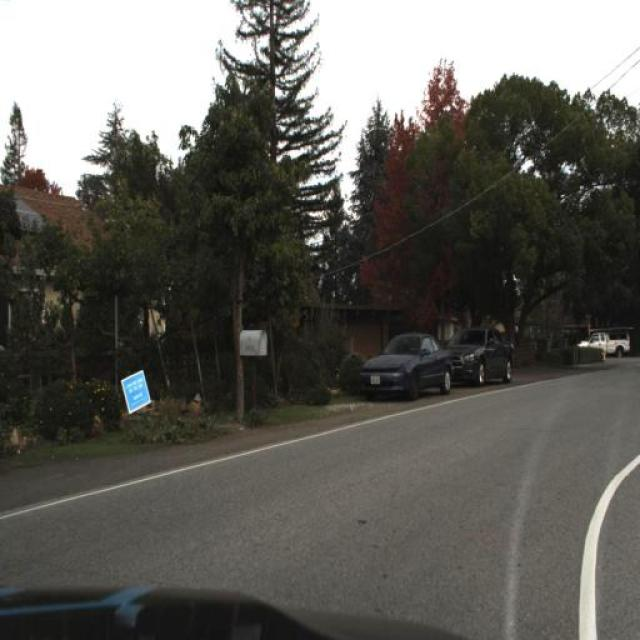car: (440, 319, 520, 400), (362, 332, 456, 397), (454, 323, 517, 396), (572, 325, 633, 364)
